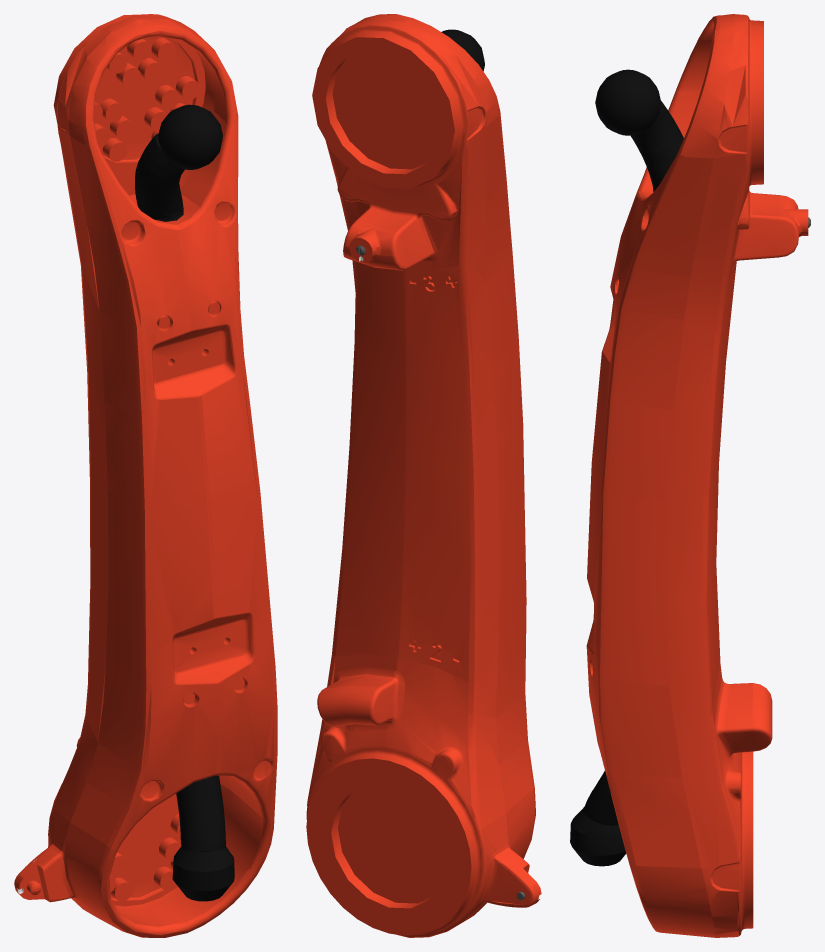
3 views of the same model, side by side, from view 1: azimuth 30°, elevation 25°; view 2: azimuth 150°, elevation 25°; view 3: azimuth 270°, elevation 25° (orthographic). The views are drawn at different scales.
Parts seen in each view (by area): view 1: link_2; view 2: link_2; view 3: link_2.
Boxes of the visible parts, x1,y1,x2,y2 form: link_2: (14, 14, 277, 937); link_2: (306, 14, 541, 937); link_2: (570, 14, 810, 937).
Size of the model in its own units: 0.1953 by 0.1821 by 0.7552.
